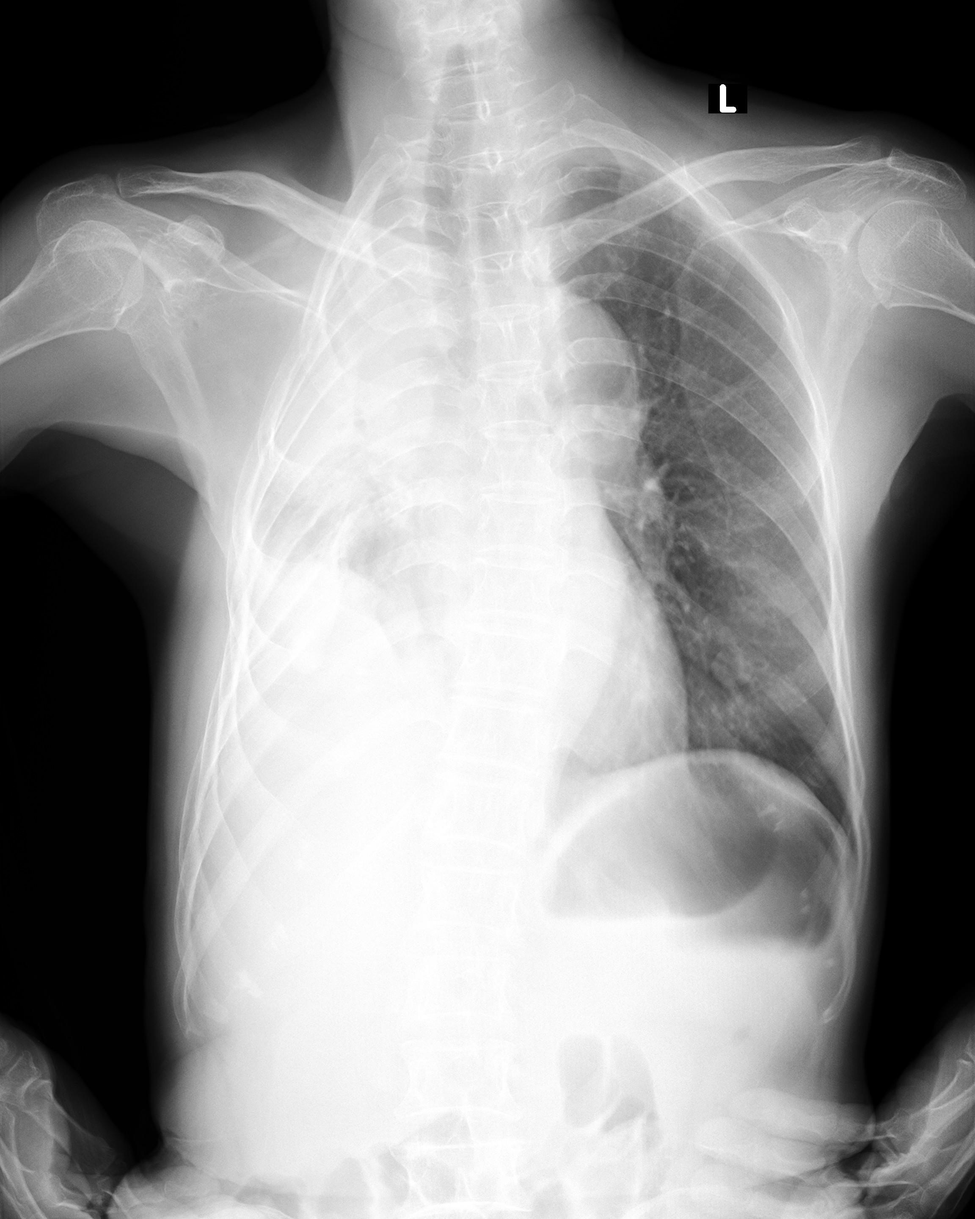Aortic enlargement: (519, 288, 637, 463)
